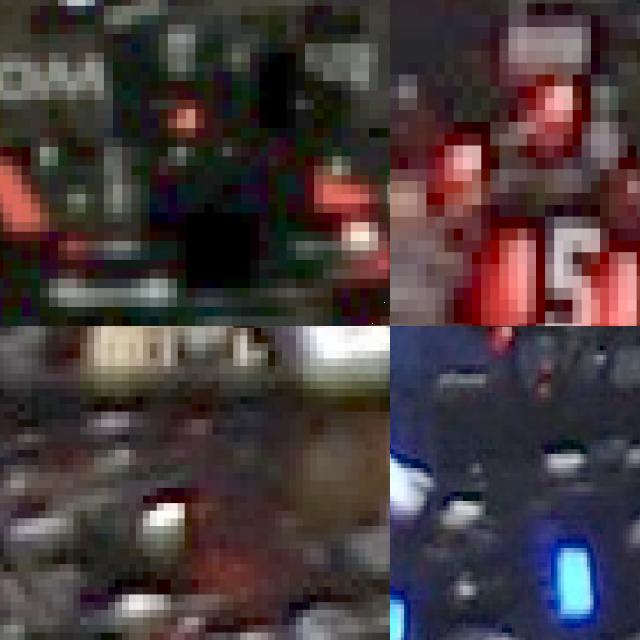B1: (548, 498, 640, 635)
R5: (481, 205, 640, 326)
